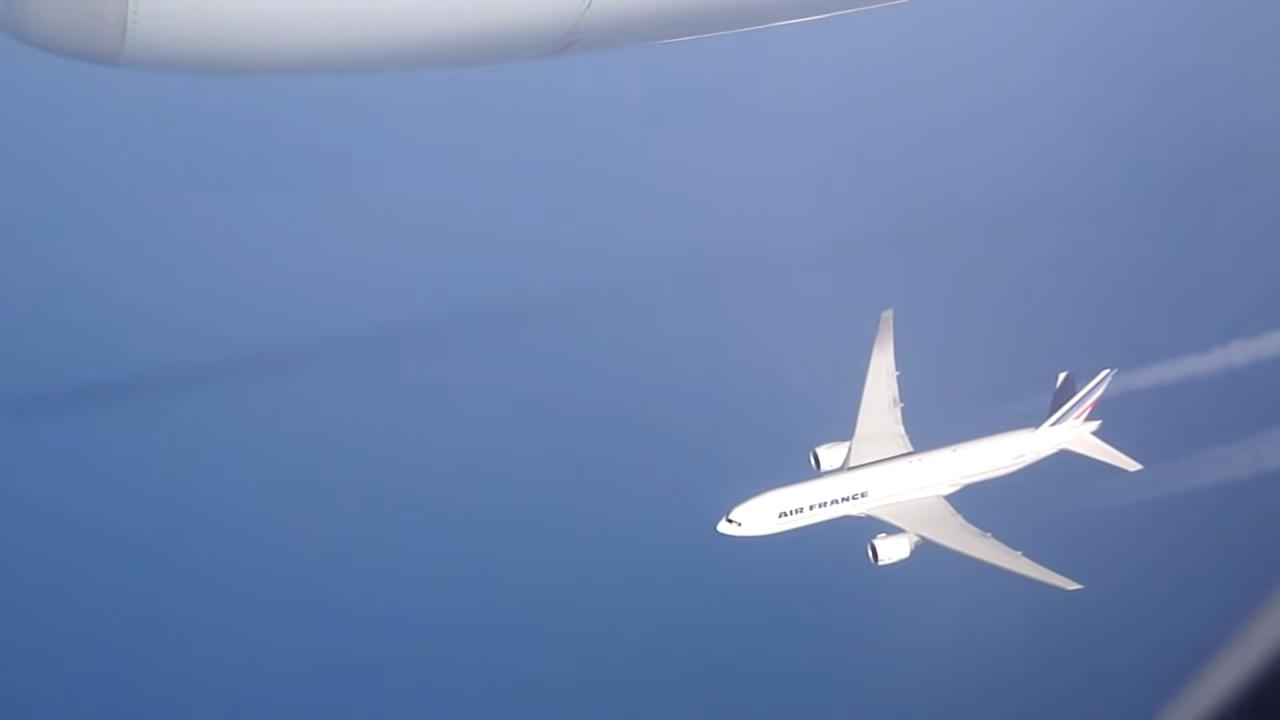Airplane: (702, 290, 1157, 608)
